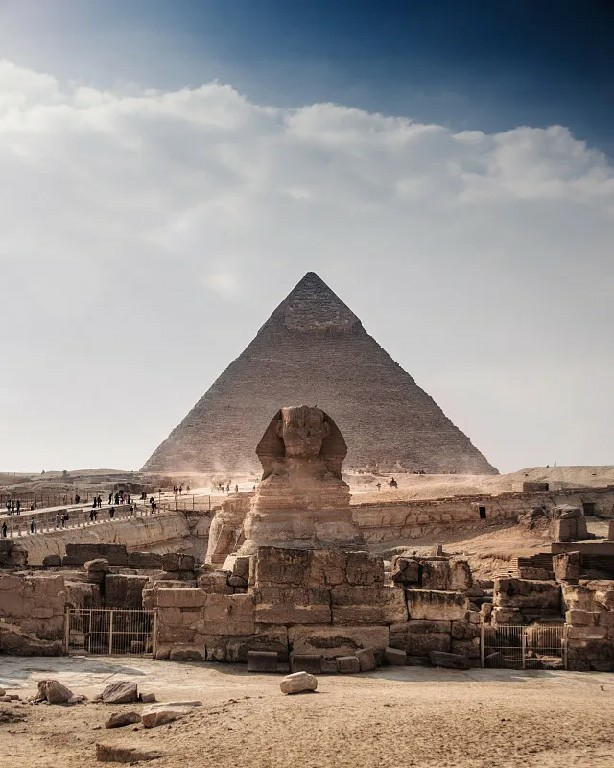Pyramid: (140, 272, 499, 478)
